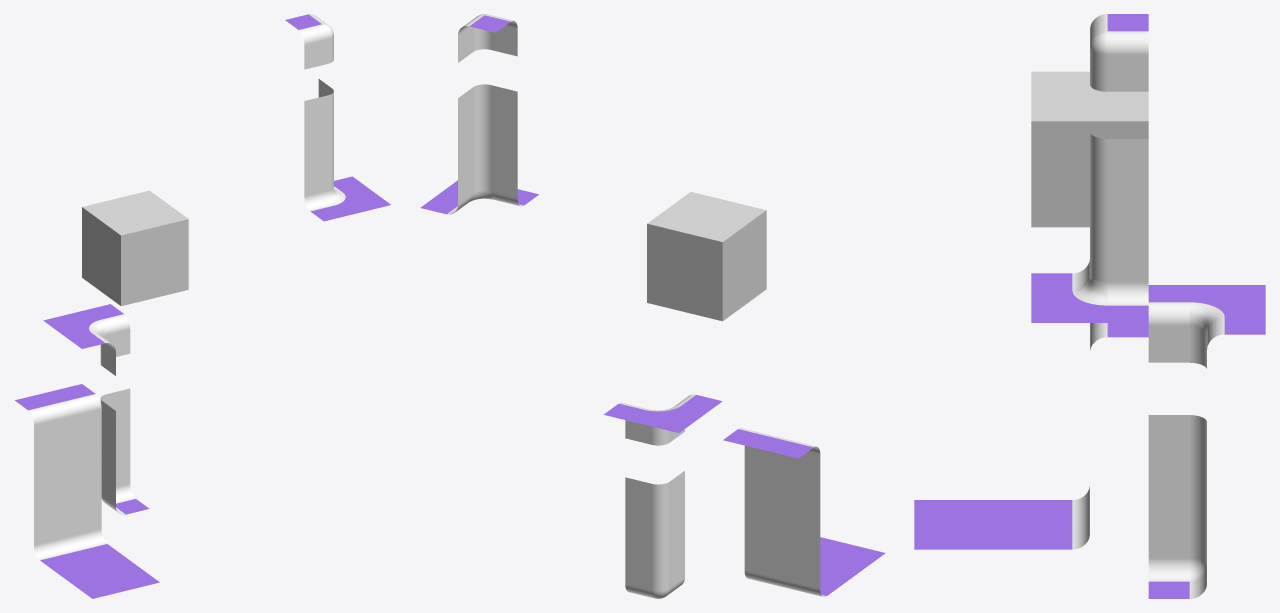
The model's file is WaveFunctionCollapse.fbx.
3 renders of one model, left to right at view 1: azimuth 30°, elevation 25°; view 2: azimuth 150°, elevation 25°; view 3: azimuth 270°, elevation 25°, orthographic. The views are drawn at different scales.
Visible parts, largest first — view 1: Cube, Plane.002, Cube.004, Cube.012, Cube.010, Cube.005, Plane.001, Cube.011, Cube.008, Cube.009, Cube.006; view 2: Cube, Plane.002, Cube.011, Cube.008, Cube.010, Cube.005, Cube.004, Cube.012, Cube.009, Cube.006, Plane.001; view 3: Cube, Cube.005, Cube.010, Cube.008, Cube.011, Plane.001, Cube.006, Cube.009, Cube.004, Cube.012.
Part boxes in pixels (bbox=[...]): Cube: bbox=[82, 190, 188, 306]; Plane.002: bbox=[34, 433, 101, 520]; Cube.004: bbox=[34, 504, 120, 570]; Cube.012: bbox=[15, 384, 101, 449]; Cube.010: bbox=[43, 304, 130, 375]; Cube.005: bbox=[304, 162, 390, 221]; Plane.001: bbox=[54, 554, 159, 598]; Cube.011: bbox=[304, 79, 333, 171]; Cube.008: bbox=[100, 388, 130, 481]; Cube.009: bbox=[285, 14, 333, 69]; Cube.006: bbox=[101, 459, 149, 514]; Cube: bbox=[647, 192, 766, 321]; Plane.002: bbox=[744, 464, 820, 561]; Cube.011: bbox=[458, 84, 517, 177]; Cube.008: bbox=[625, 471, 684, 563]; Cube.010: bbox=[603, 394, 722, 445]; Cube.005: bbox=[420, 163, 538, 214]; Cube.004: bbox=[744, 543, 841, 597]; Cube.012: bbox=[723, 428, 820, 481]; Cube.009: bbox=[458, 14, 517, 62]; Cube.006: bbox=[625, 550, 684, 598]; Plane.001: bbox=[820, 537, 885, 584]; Cube: bbox=[1031, 71, 1148, 227]; Cube.005: bbox=[1031, 239, 1148, 322]; Cube.010: bbox=[1148, 285, 1265, 368]; Cube.008: bbox=[1148, 415, 1206, 526]; Cube.011: bbox=[1090, 132, 1148, 244]; Plane.001: bbox=[914, 500, 1031, 549]; Cube.006: bbox=[1148, 521, 1206, 598]; Cube.009: bbox=[1090, 14, 1148, 91]; Cube.004: bbox=[1031, 486, 1089, 549]; Cube.012: bbox=[1090, 323, 1148, 350].
Size of the model in its own units: 1000 by 1289 by 600.
